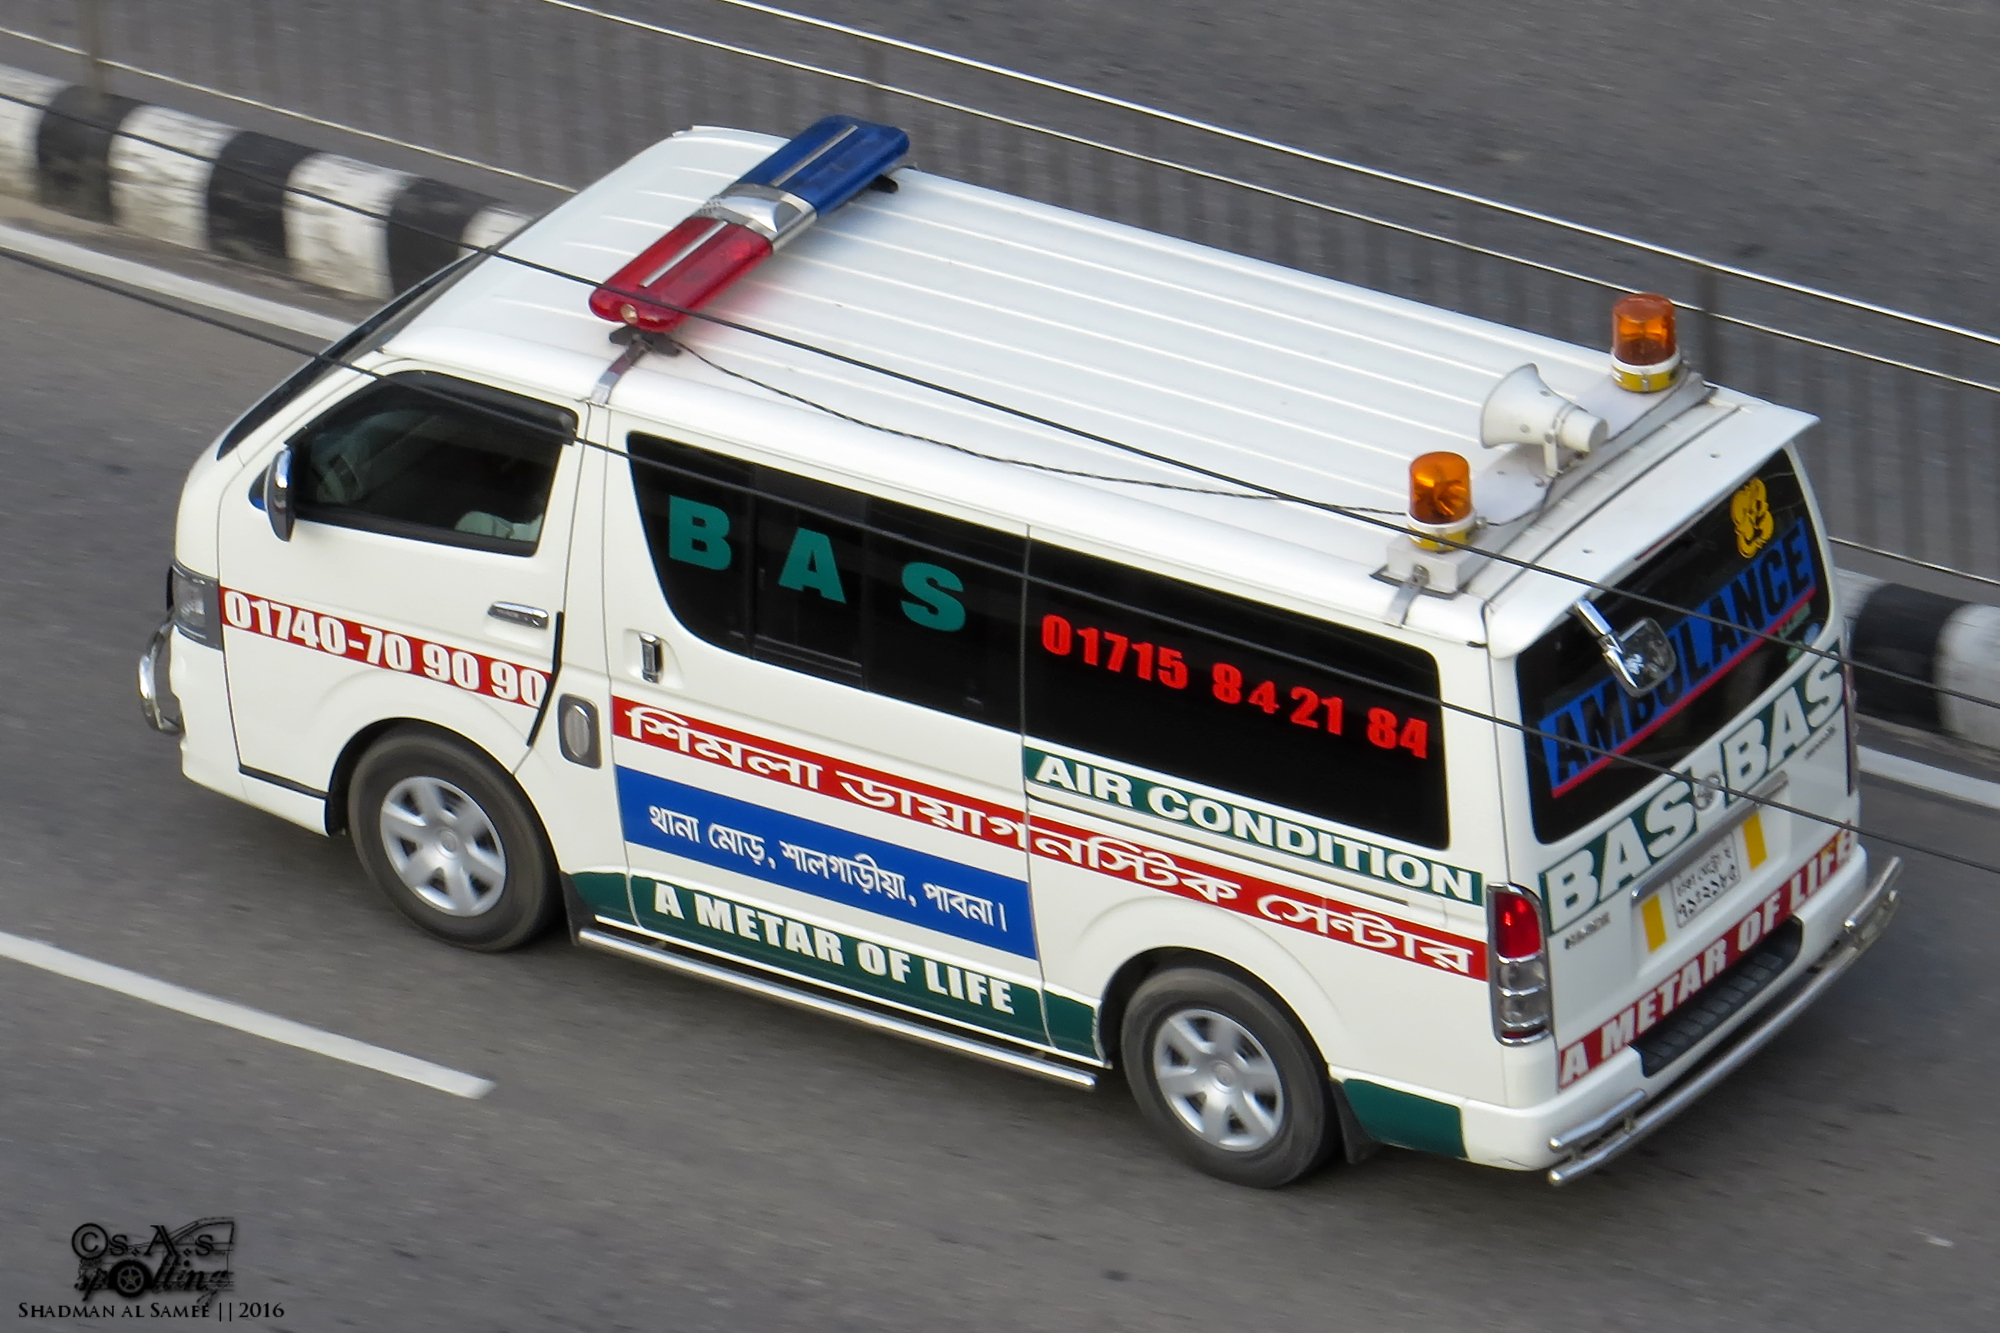ambulance: (129, 106, 1905, 1190)
